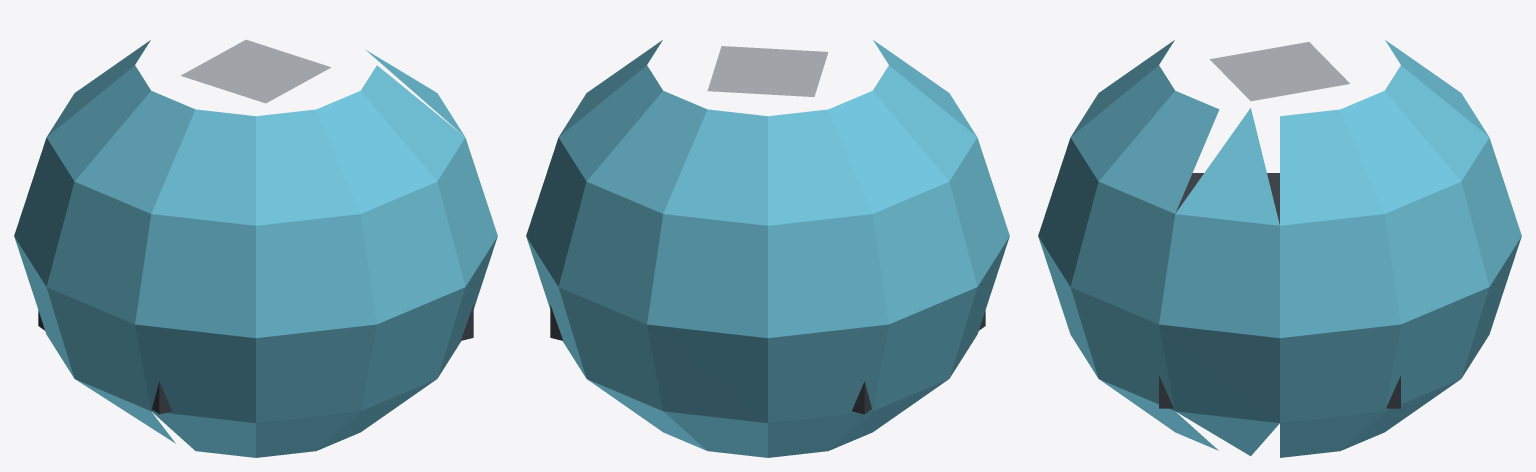
Rendered from barrier-environmental.lod.glb.
The picture shows the model from 3 angles, left to right: view 1: azimuth 30°, elevation 25°; view 2: azimuth 150°, elevation 25°; view 3: azimuth 270°, elevation 25°; orthographic projection.
Parts seen in each view (by area): view 1: m; view 2: m; view 3: m.
Part boxes in pixels (bbox=[...]): m: bbox=[14, 39, 497, 457]; m: bbox=[526, 40, 1009, 457]; m: bbox=[1038, 40, 1521, 457].
Bounding box in the file's own units: 0.1111 × 0.0884 × 0.1111.
